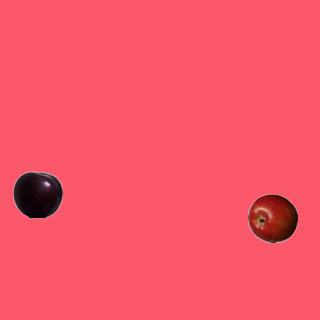Apple Braeburn: (247, 193, 297, 243)
Cherry Wax Black: (12, 169, 62, 219)
